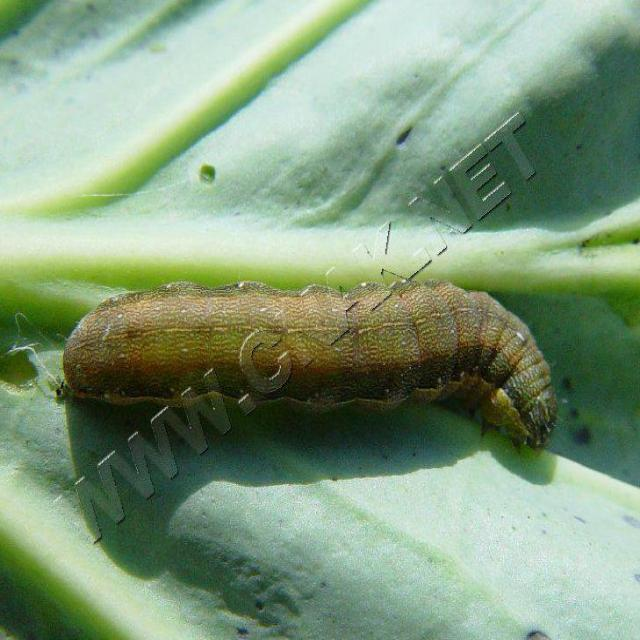BeetArmyWorm-Larva-: (59, 273, 569, 461)
